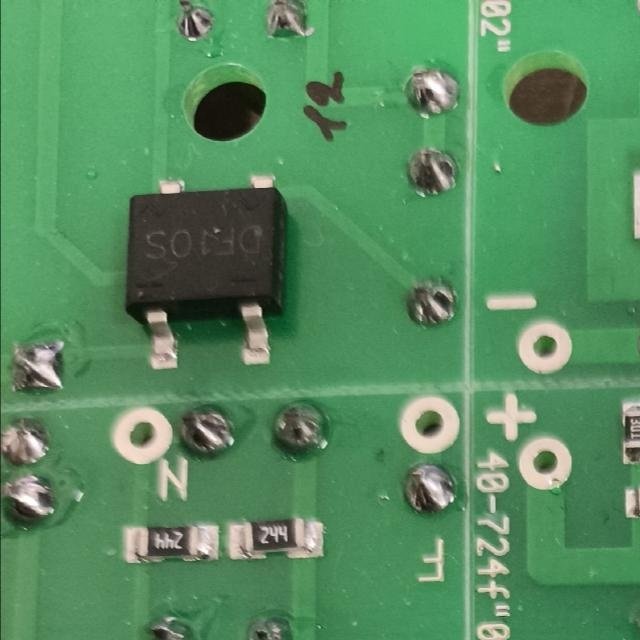chip-resistor: (225, 519, 328, 561), (121, 522, 222, 562), (619, 397, 640, 466)
ic: (124, 173, 292, 371)
